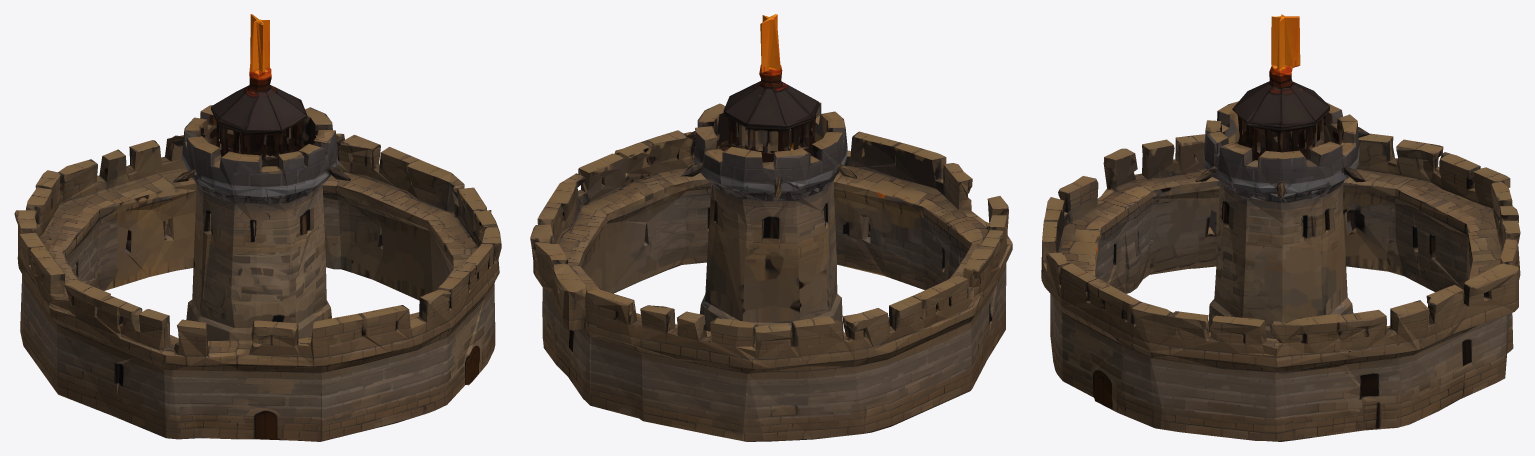
Rendered from watchtower.glb.
The picture shows the model from 3 angles, left to right: view 1: azimuth 30°, elevation 25°; view 2: azimuth 150°, elevation 25°; view 3: azimuth 270°, elevation 25°; orthographic projection.
Visible parts, largest first — view 1: textured_mesh.obj; view 2: textured_mesh.obj; view 3: textured_mesh.obj.
Boxes of the visible parts, box(x1,y1,x2,y2) form: textured_mesh.obj: box(14, 14, 501, 441); textured_mesh.obj: box(530, 14, 1012, 441); textured_mesh.obj: box(1041, 14, 1520, 441).
Size of the model in its own units: 1.99 by 1.5 by 1.98.
1 material, 1 textured.
